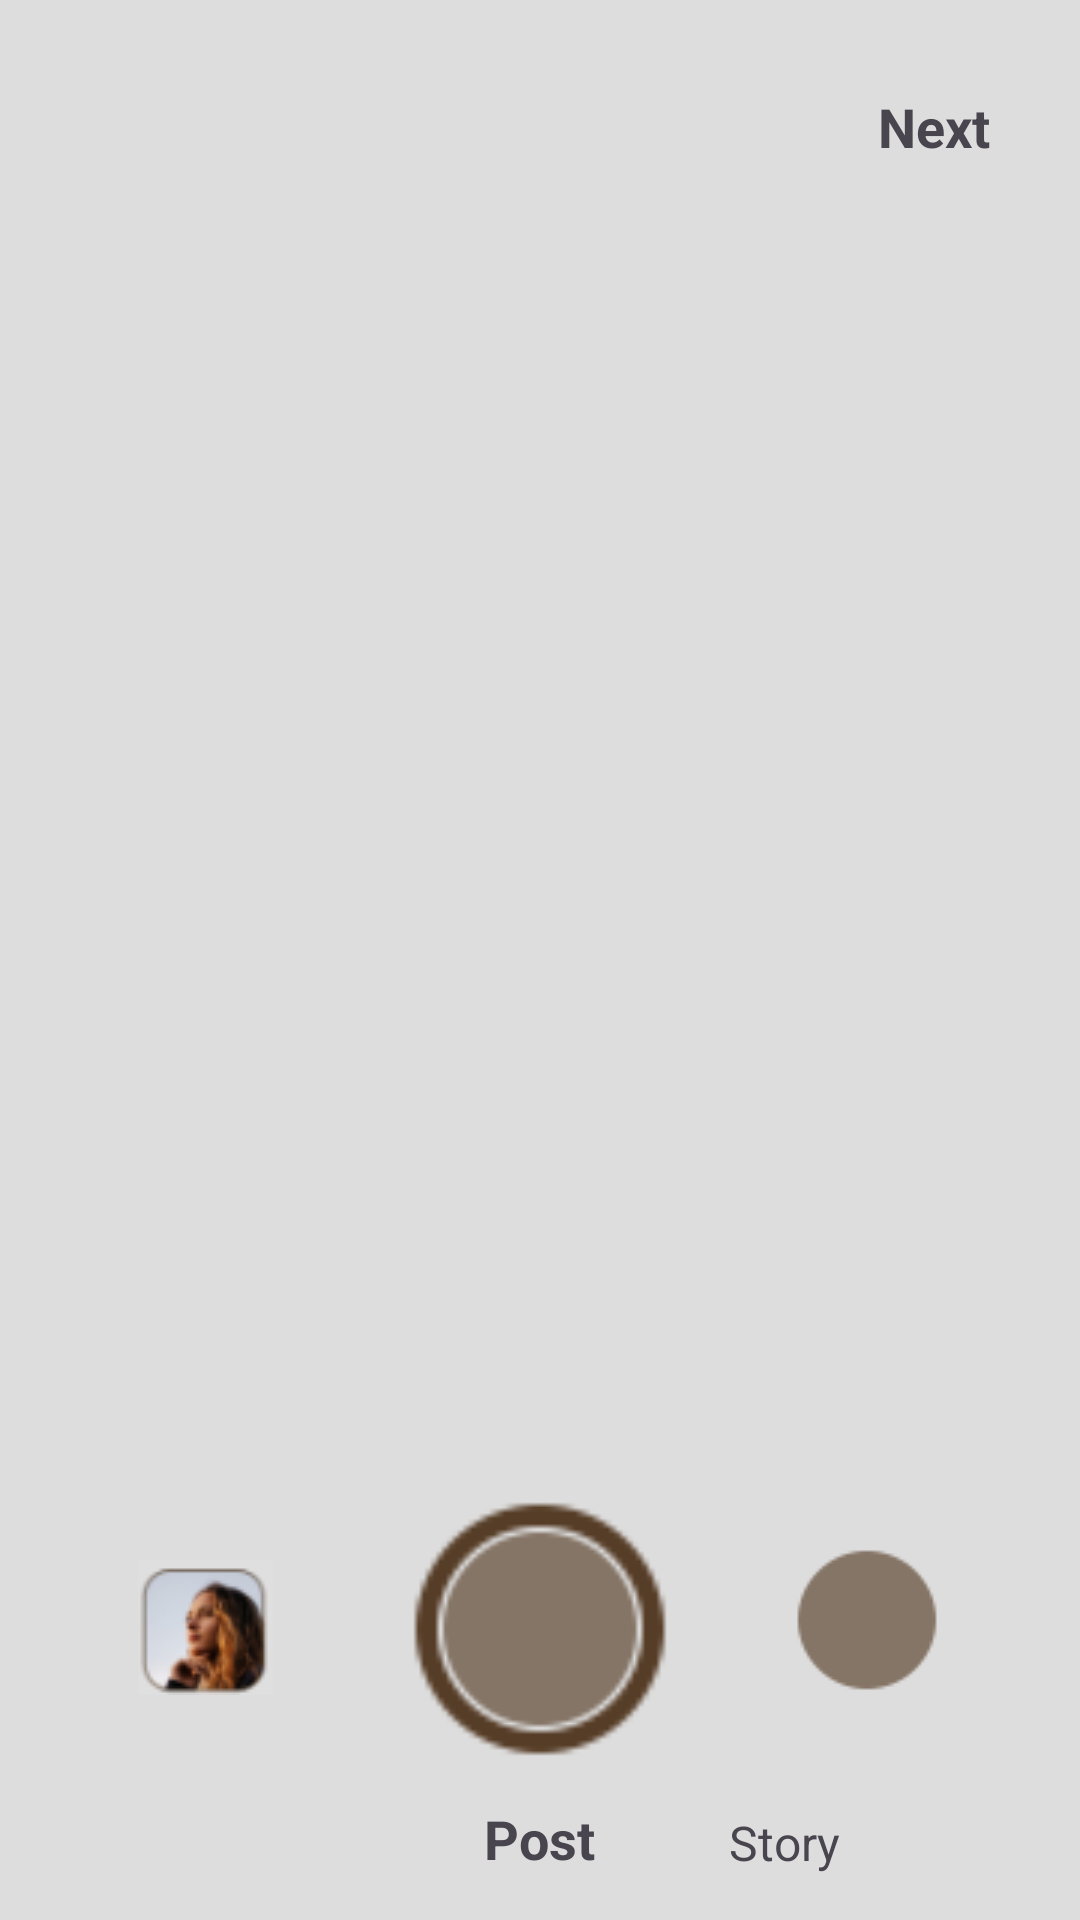

Locate icon controls on the screen. Image size 1080w x 1920h, boxes as (x1, y1, x2, y2).
gallery: (141, 1568, 267, 1693)
